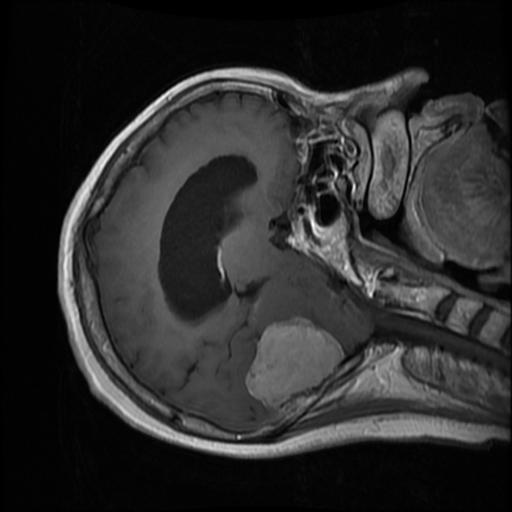meningioma: (242, 316, 341, 409)
